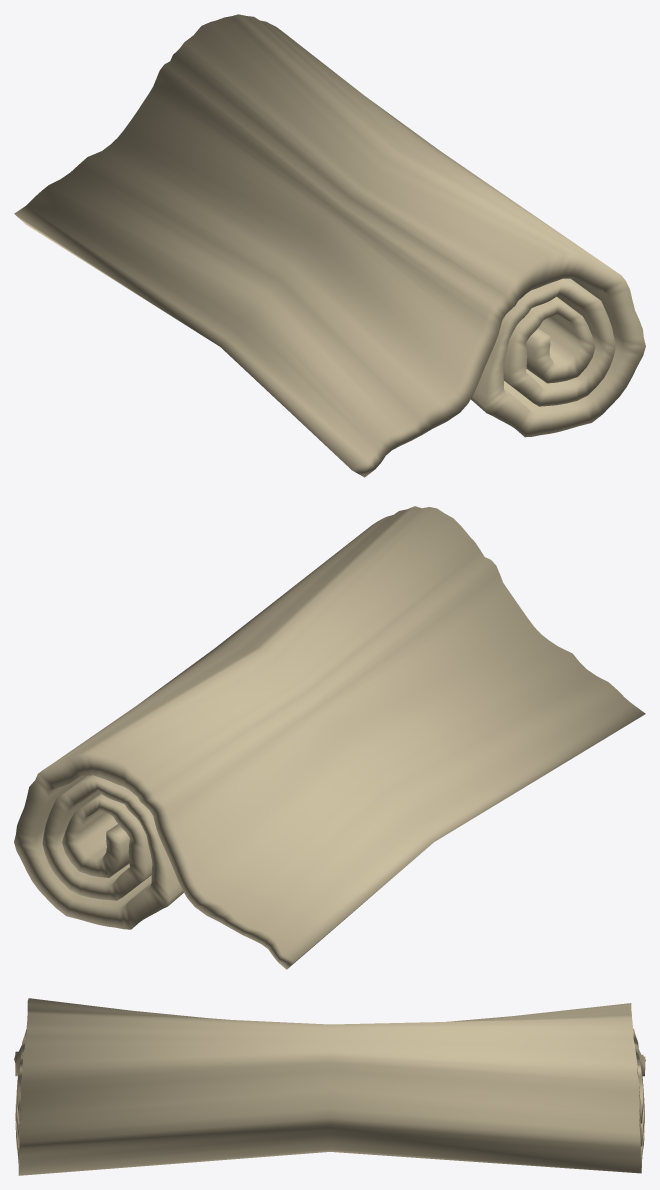
The model's file is cloth.fbx.
3 renders of one model, top to bottom at view 1: azimuth 30°, elevation 25°; view 2: azimuth 150°, elevation 25°; view 3: azimuth 270°, elevation 25°, orthographic. The views are drawn at different scales.
Parts seen in each view (by area): view 1: cloth; view 2: cloth; view 3: cloth.
Part boxes in pixels (x1,y1,x2,y2): cloth: [14, 14, 645, 477]; cloth: [14, 506, 645, 969]; cloth: [14, 998, 645, 1175].
Size of the model in its own units: 20.72 by 12.13 by 42.12.
